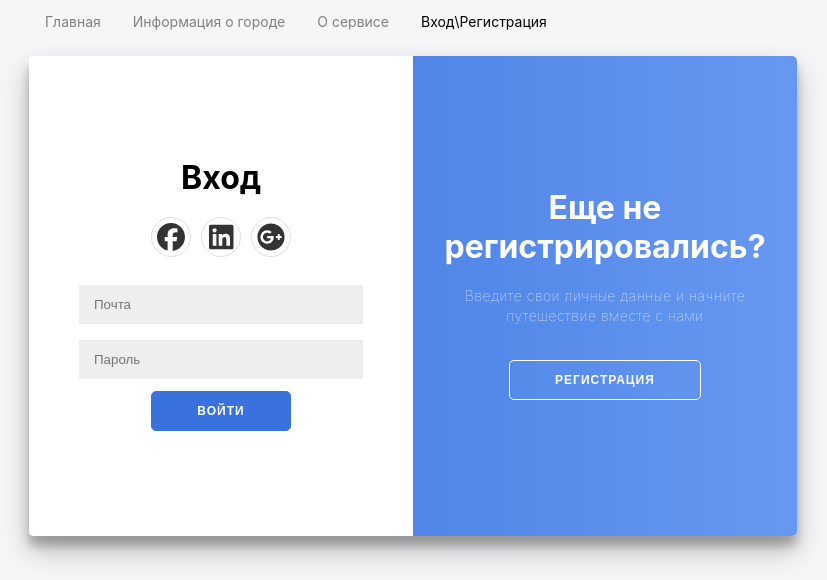
Test: login › Login User (Invalid)
Type "fakemail.ru" into the field with placeholder "Почта".
click(221, 305); type("fakemail.ru")  # box [79,285,363,324]
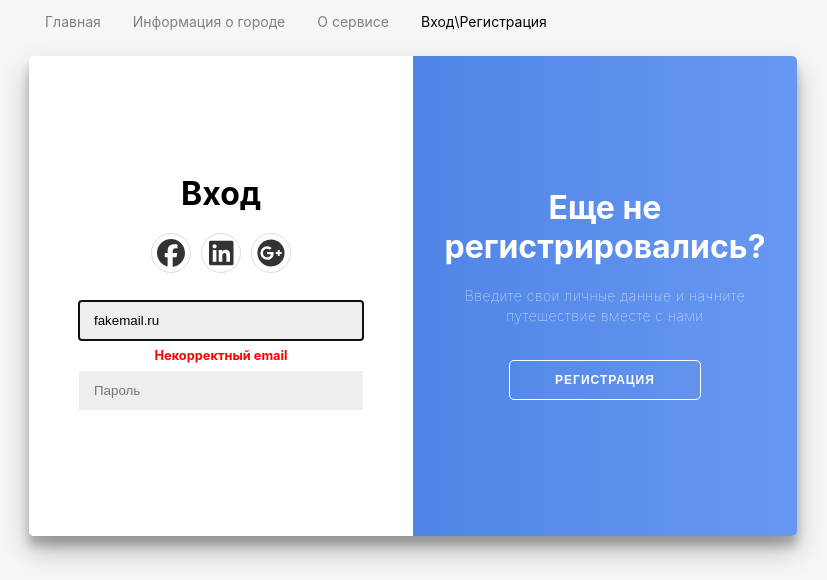
Expected: the text "Некорректный email" is shown, [154,348,288,363]
Type "111" into the password field with placeholder "Пароль".
click(221, 391); type("111")  # box [79,371,363,410]
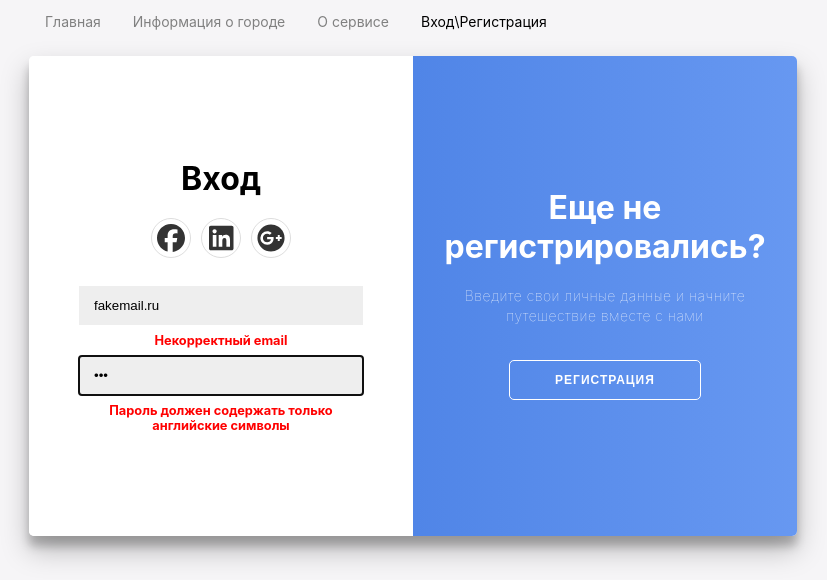
Expected: the text "Пароль должен содержать только английские символы" is shown, [109,403,333,433]
